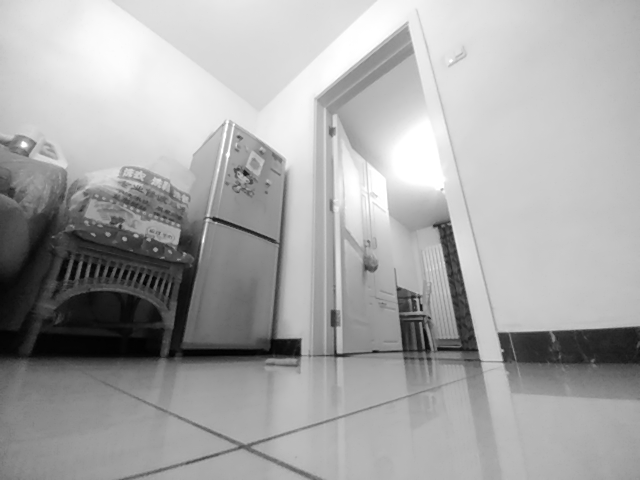curtain: (432, 218, 479, 350)
pet feces: (264, 356, 299, 369)
